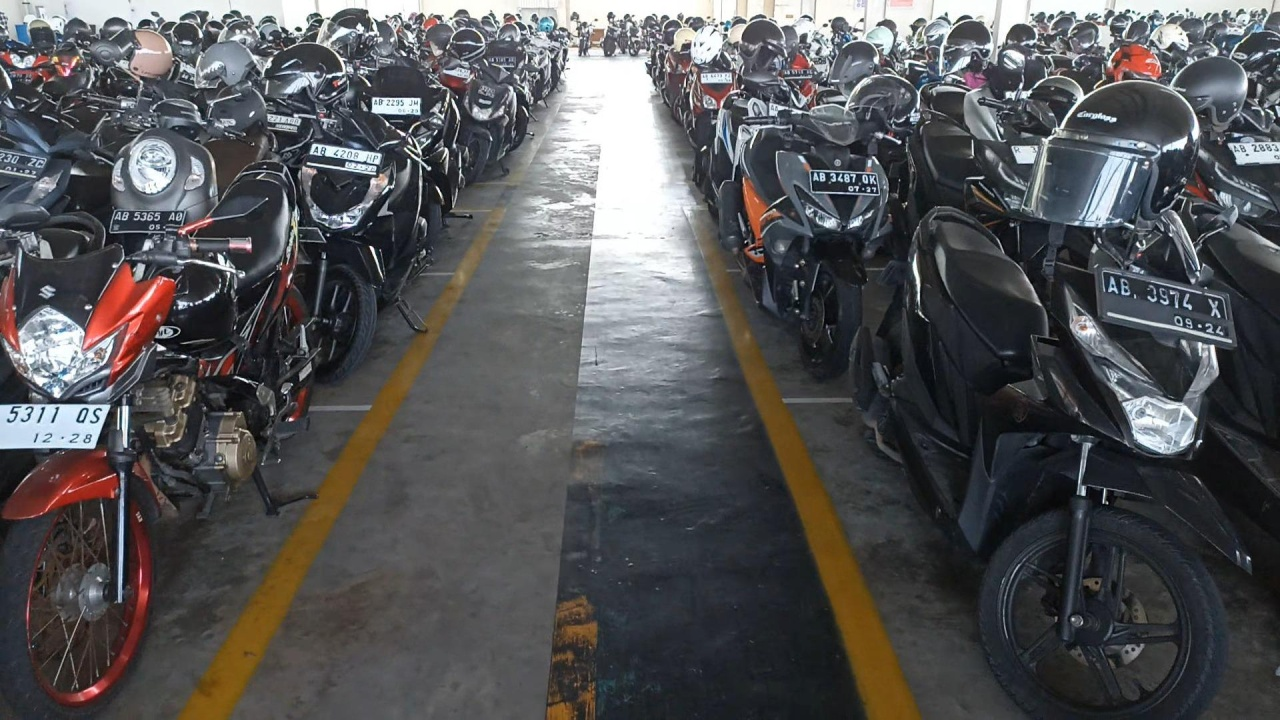plate: (1100, 268, 1233, 345), (305, 142, 384, 177), (810, 170, 880, 195), (372, 97, 421, 116)
